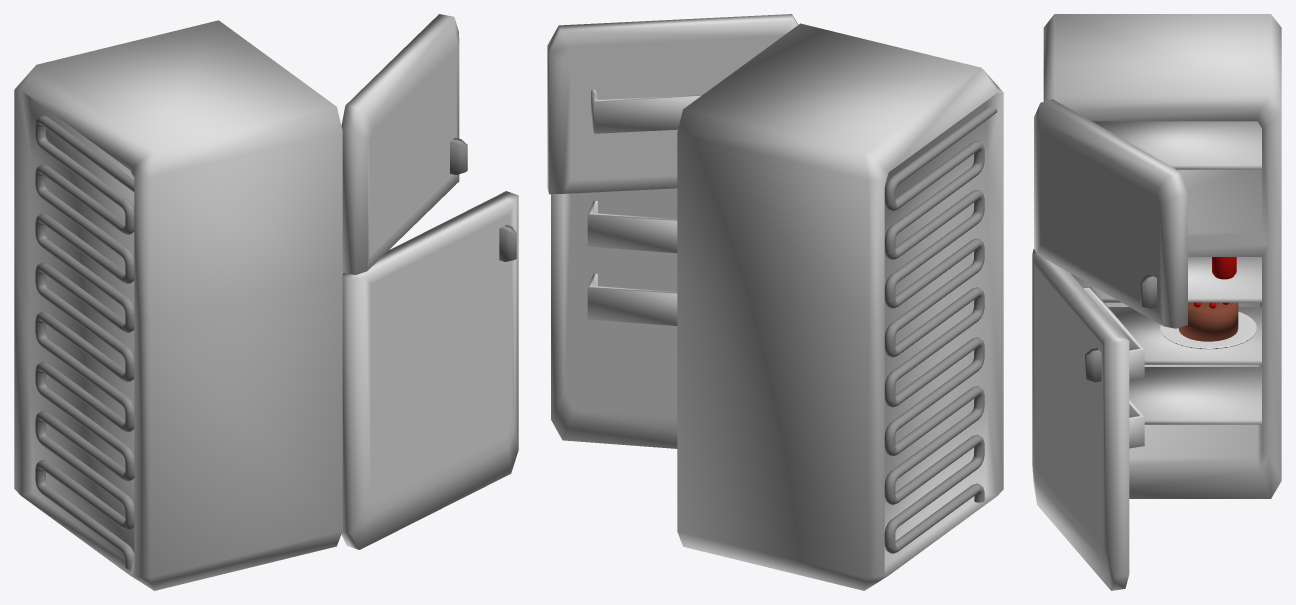
Rendered from fridge.fbx.
3 renders of one model, left to right at view 1: azimuth 30°, elevation 25°; view 2: azimuth 150°, elevation 25°; view 3: azimuth 270°, elevation 25°, orthographic. The views are drawn at different scales.
Visible parts, largest first — view 1: Cuerpo, PuertaAbajo, PuertaCongelador; view 2: Cuerpo, PuertaAbajo, PuertaCongelador; view 3: Cuerpo, PuertaAbajo, PuertaCongelador, Cake, Plate, Cola2.
Boxes of the visible parts, <box> form: Cuerpo: <box>14,20,342,590</box>; PuertaAbajo: <box>341,191,518,549</box>; PuertaCongelador: <box>341,14,467,274</box>; Cuerpo: <box>677,23,1003,590</box>; PuertaAbajo: <box>551,188,677,448</box>; PuertaCongelador: <box>547,14,798,194</box>; Cuerpo: <box>1043,14,1281,498</box>; PuertaAbajo: <box>1032,249,1144,590</box>; PuertaCongelador: <box>1034,99,1187,328</box>; Cake: <box>1178,302,1238,341</box>; Plate: <box>1160,311,1256,349</box>; Cola2: <box>1212,257,1236,279</box>.
Size of the model in its own units: 372 by 374 by 210.
